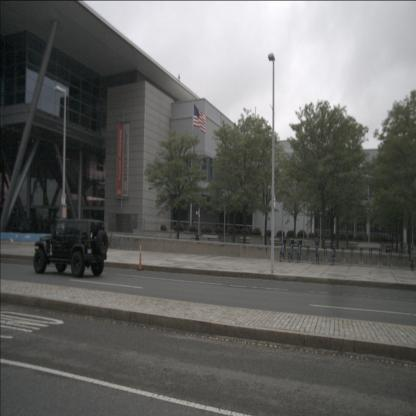movable_object-barrier: (8, 232, 24, 245), (20, 233, 37, 245), (34, 233, 48, 246), (0, 232, 13, 244)
movable_object-trafficcone: (136, 242, 145, 271)
vehicle-car: (34, 218, 108, 278)
